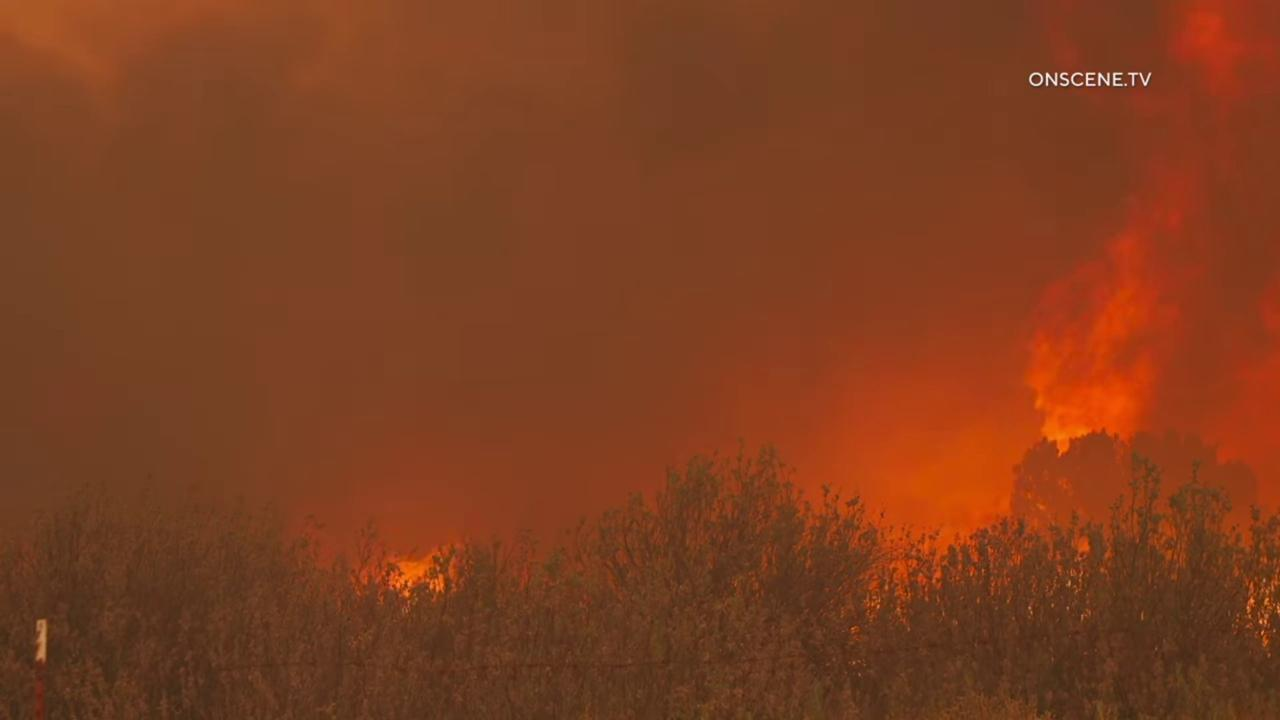fire: (1016, 142, 1217, 458), (345, 531, 470, 606)
smoke: (0, 0, 1280, 648)
